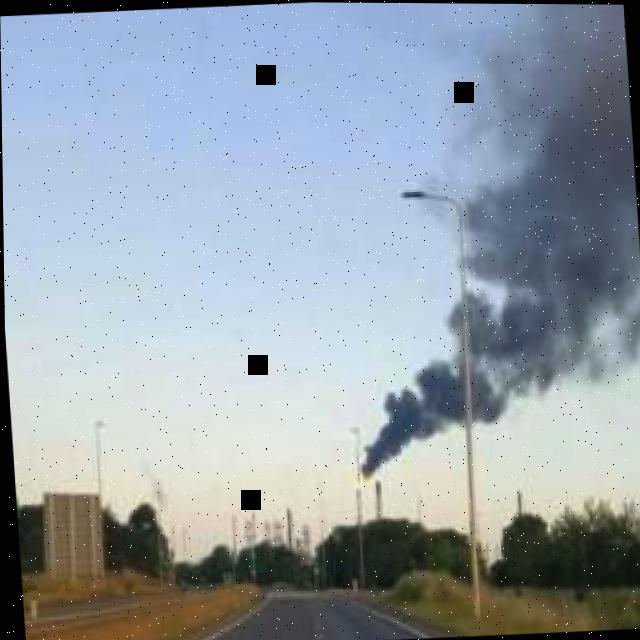fire: (356, 472, 367, 489)
smoke: (361, 3, 640, 475)
